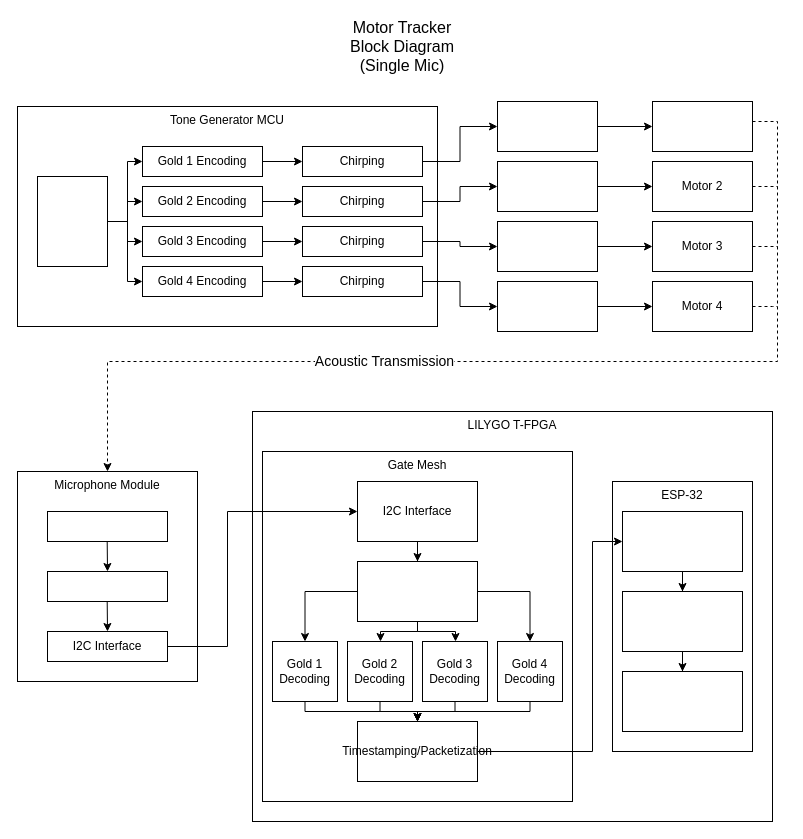
The diagram is 803 pixels wide and 839 high, and some of its shapes have lost their labels. The centre of each missing label's shape, as x and y in pixels:
"ADC" goes at point (107, 586).
"Dechirping/FFT" goes at point (417, 591).
"Distance Reporting (WiFi/Serial)" goes at point (682, 701).
"MEMS Microphone" goes at point (107, 526).
"Motor 1" goes at point (702, 126).
"Motor Identification" goes at point (682, 541).
"Multilateration" goes at point (682, 621).
"Timer/Message Generator" goes at point (72, 221).
"VESC 1" goes at point (547, 126).
"VESC 2" goes at point (547, 186).
"VESC 3" goes at point (547, 246).
"VESC 4" goes at point (547, 306).
